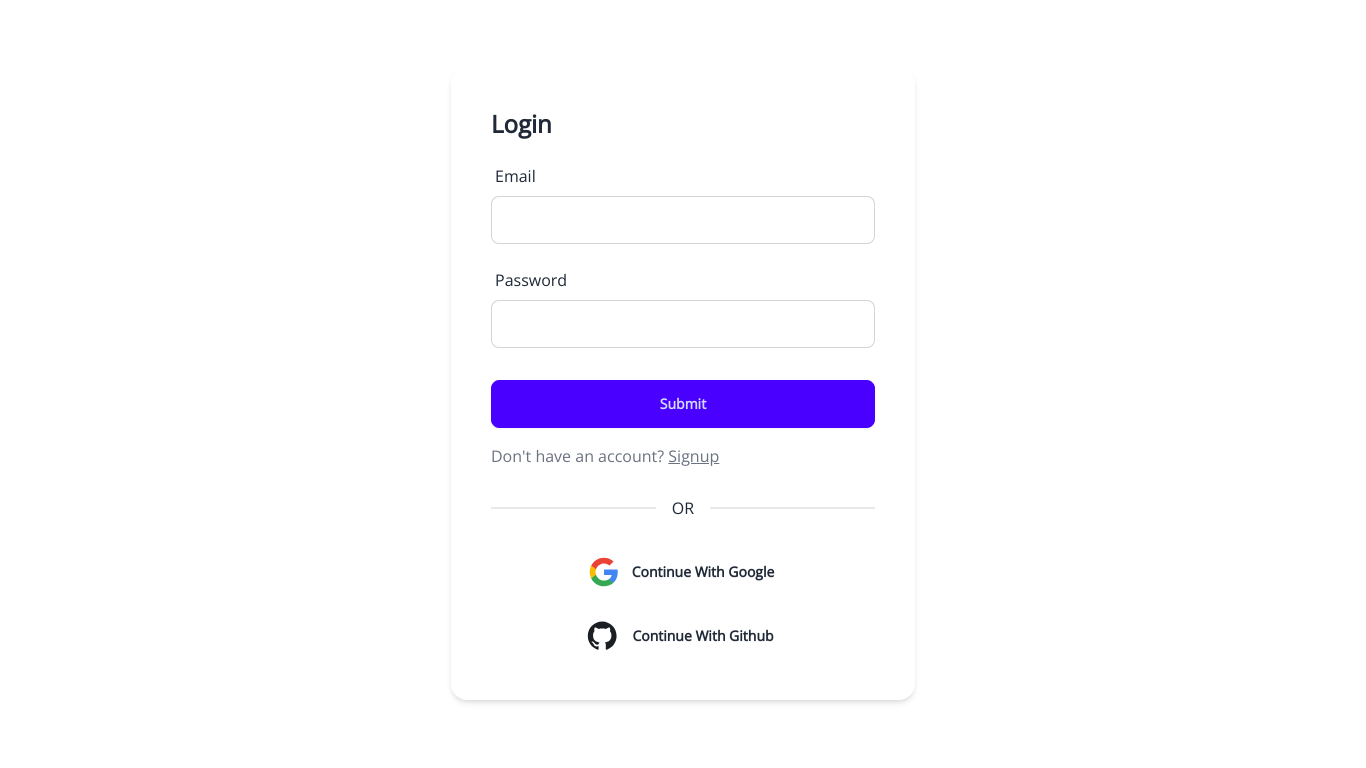
Test: /login › should successfully submit the form with valid data and redirect
Type "john@gmail.com" into the field with id "email". click: {"x": 683, "y": 220}
box: [491,196,875,244]
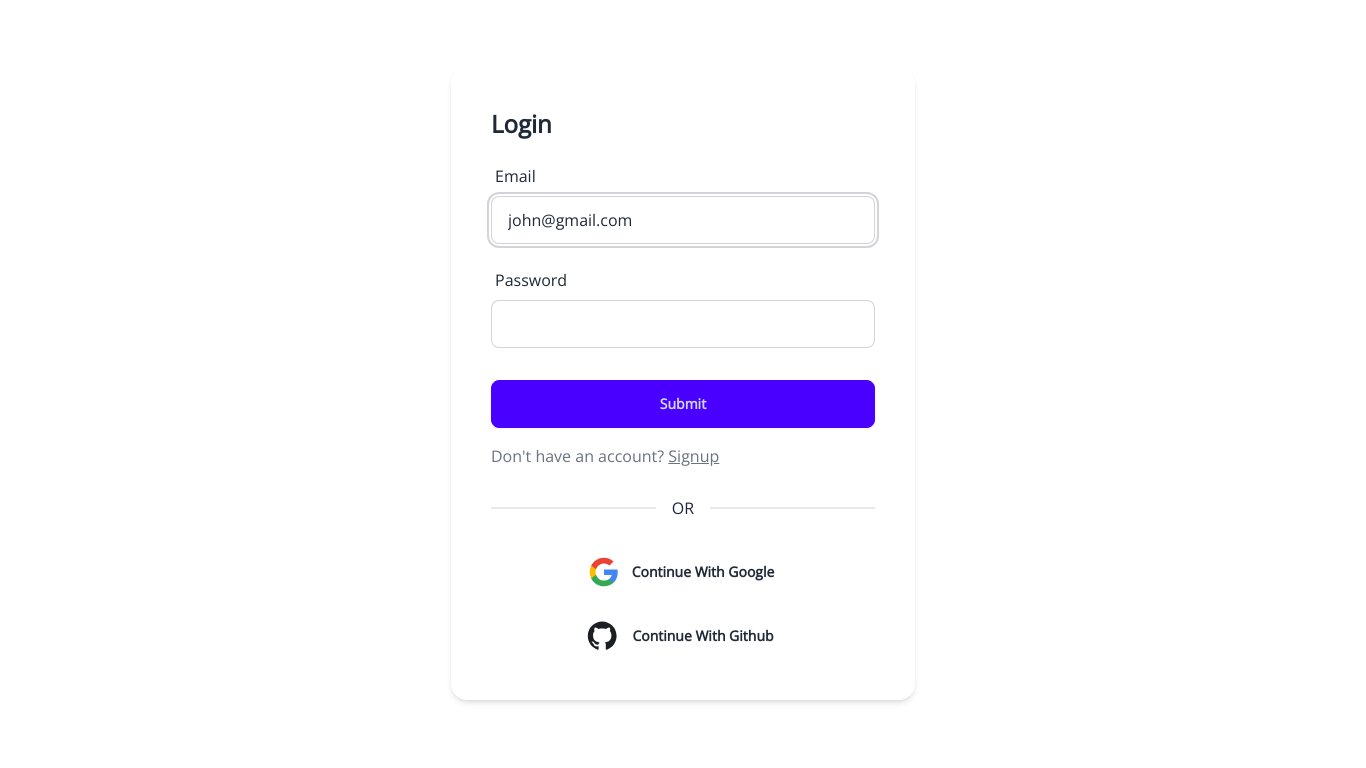
Type "Password123" into the password field labelled "Password". click: {"x": 683, "y": 324}
box: [491,300,875,348]
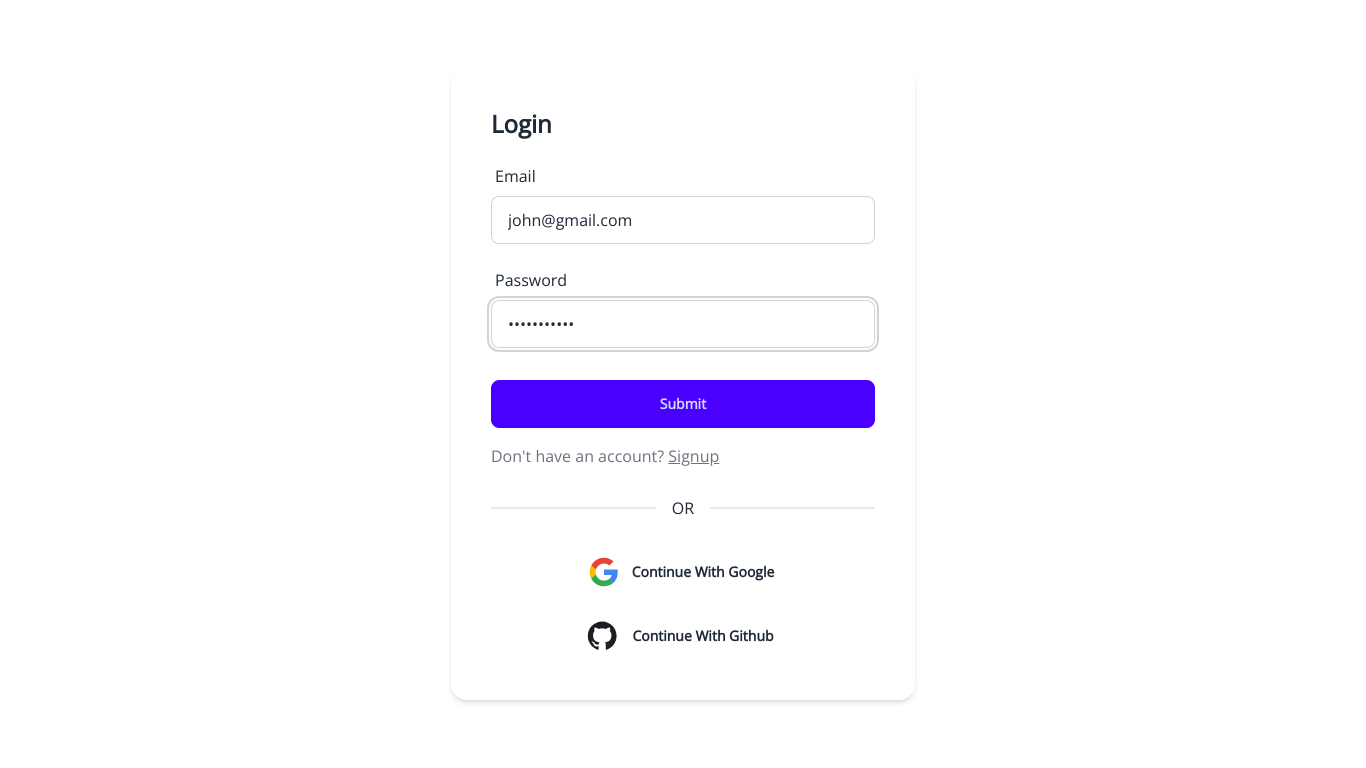
Click the button "Submit". click: {"x": 683, "y": 404}
box: [491,380,875,428]
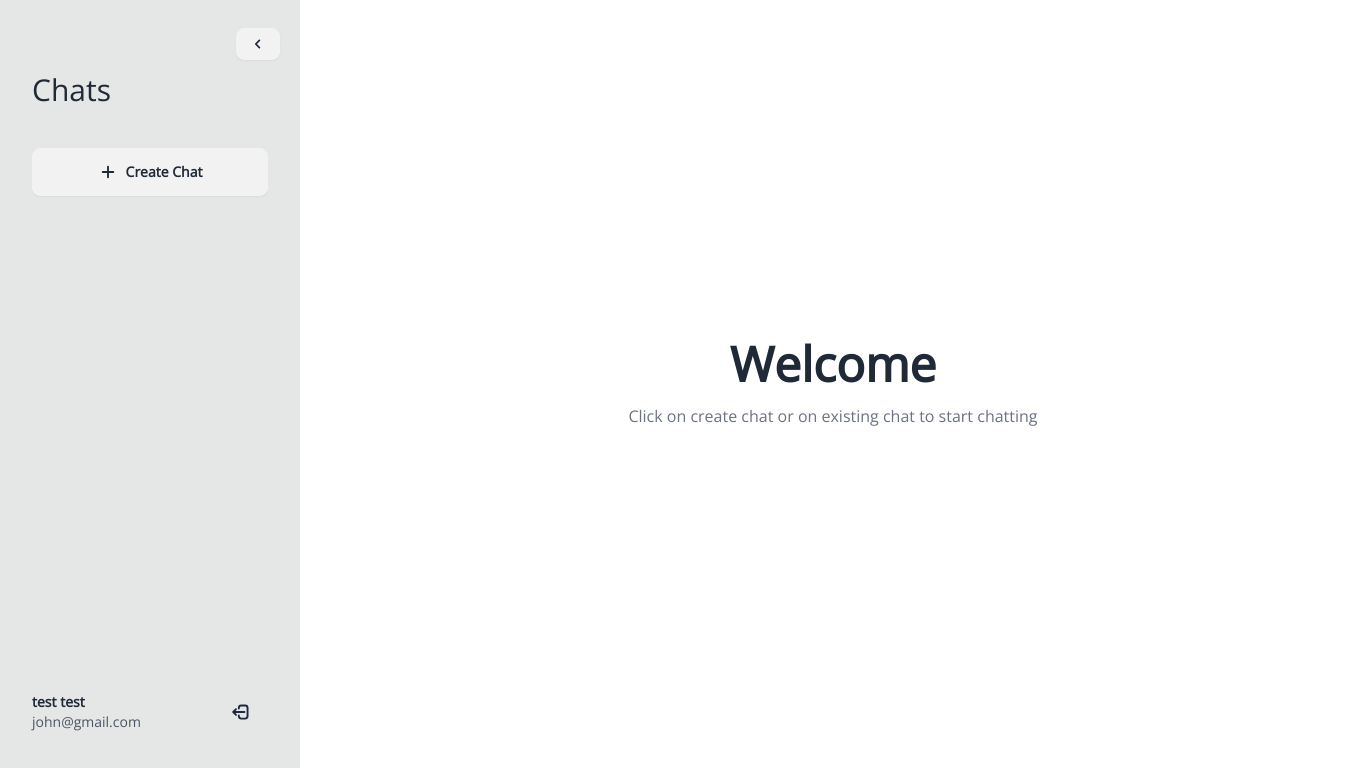
Result: the heading with test id "welcome-heading" reads "Welcome" at [730,340,937,388]
